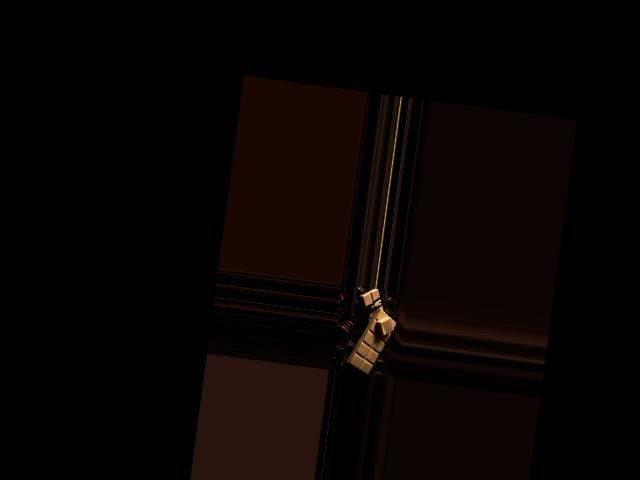chocolate: (346, 303, 397, 376)
